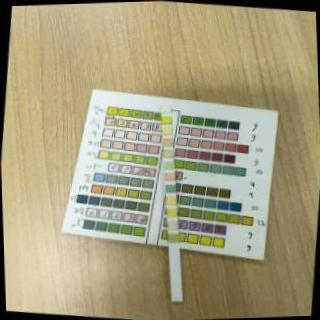mark: (168, 232, 178, 242), (167, 219, 177, 229), (164, 160, 173, 170), (164, 148, 173, 158), (166, 184, 175, 193), (168, 208, 177, 216), (167, 196, 176, 204), (163, 115, 171, 124), (166, 172, 174, 180), (162, 106, 170, 114), (164, 138, 172, 145), (164, 127, 172, 134)
